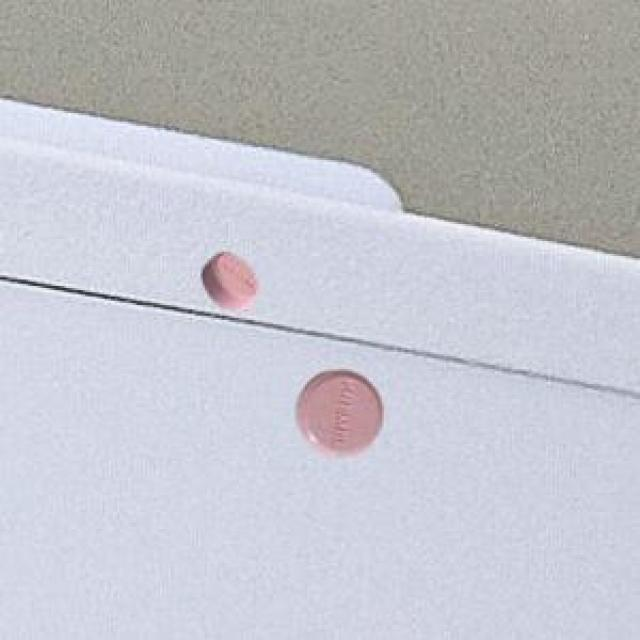Kremil_S: (282, 355, 394, 466), (193, 240, 268, 324)
